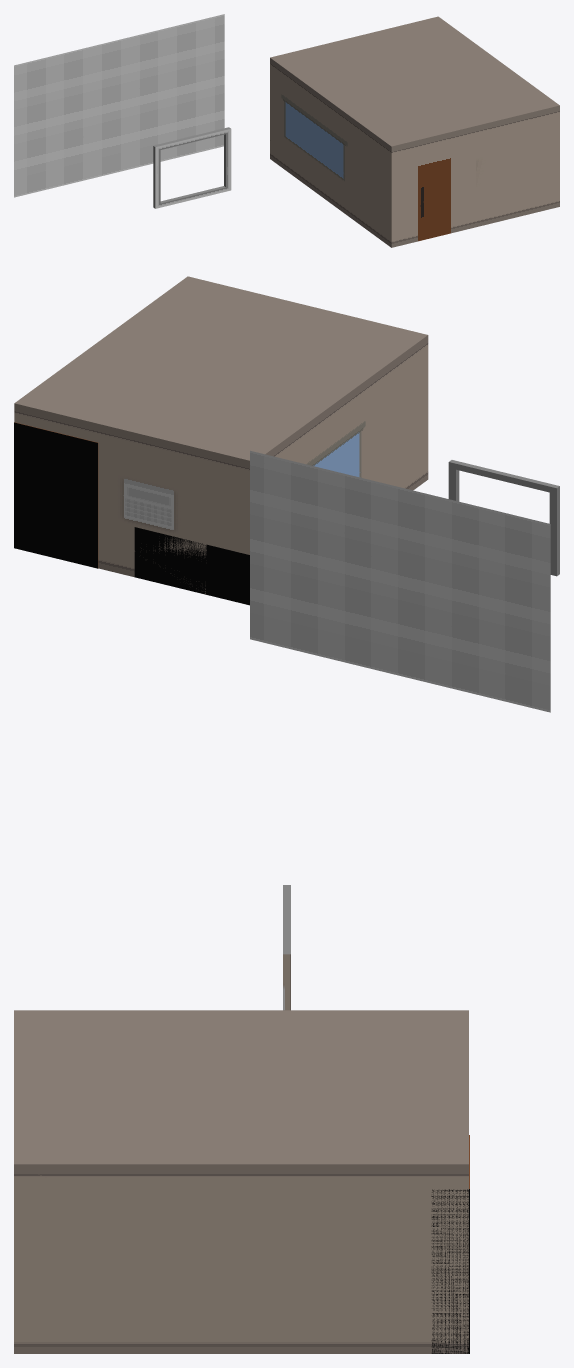
The model's file is qcu_dorm.glb.
3 renders of one model, top to bottom at view 1: azimuth 30°, elevation 25°; view 2: azimuth 150°, elevation 25°; view 3: azimuth 270°, elevation 25°, orthographic. The views are drawn at different scales.
Parts seen in each view (by area): view 1: Cube, Plane, Cube.001; view 2: Cube, Plane, Cube.001; view 3: Cube, Cube.001.
Boxes of the visible parts, x1,y1,x2,y2 form: Cube: [270, 16, 559, 247]; Plane: [14, 14, 224, 197]; Cube.001: [153, 127, 231, 208]; Cube: [14, 276, 428, 605]; Plane: [250, 450, 550, 712]; Cube.001: [448, 460, 559, 576]; Cube: [14, 1010, 469, 1353]; Cube.001: [283, 885, 290, 1010].
Size of the model in its own units: 9.5 by 3 by 6.
1 material, 1 textured.
